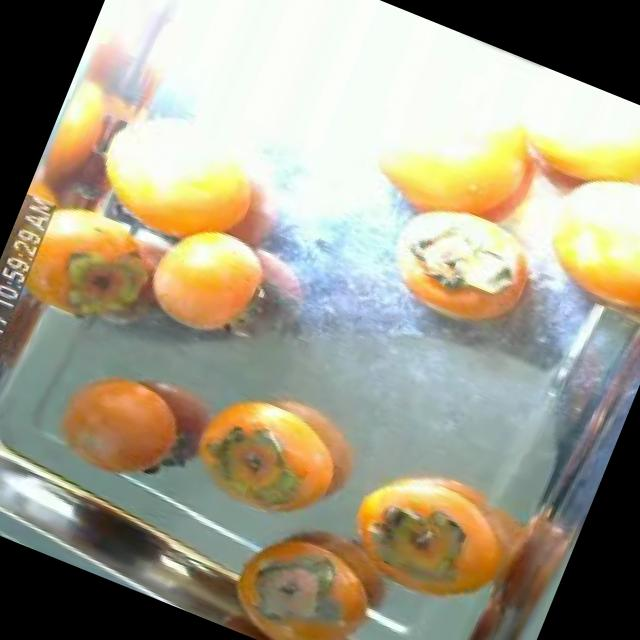Fruit: (318, 434, 552, 638), (170, 350, 390, 554), (24, 324, 249, 522), (0, 171, 201, 365)
